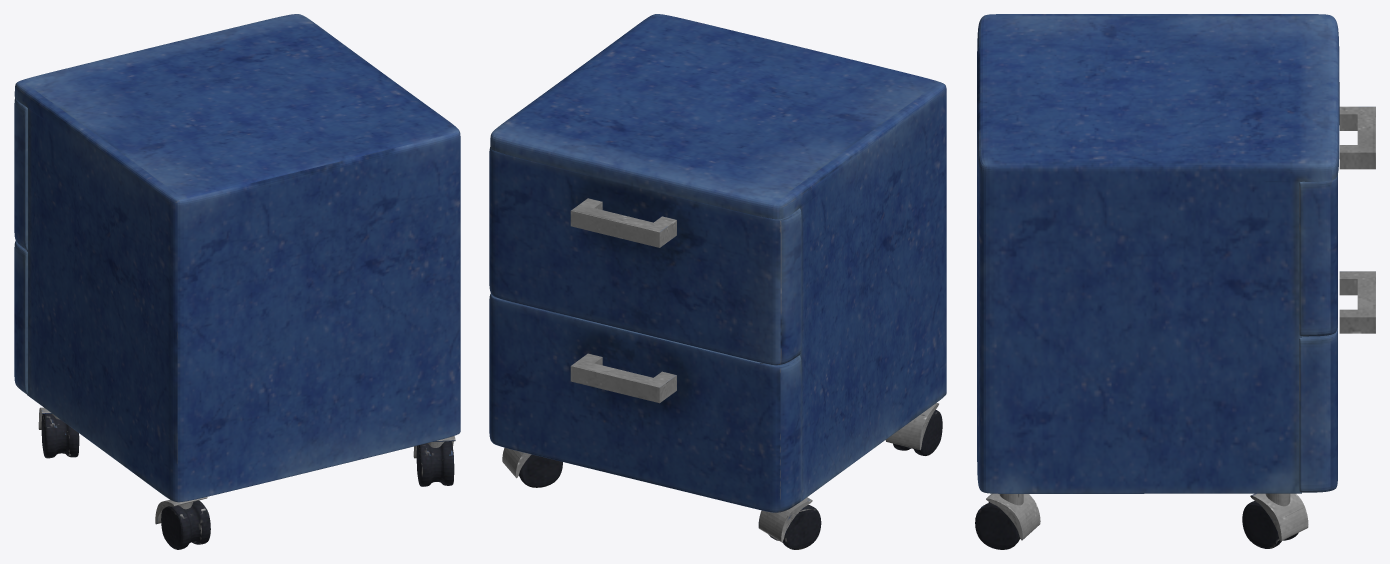
Rendered from tumb.fbx.
3 views of the same model, side by side, from view 1: azimuth 30°, elevation 25°; view 2: azimuth 150°, elevation 25°; view 3: azimuth 270°, elevation 25° (orthographic). The views are drawn at different scales.
Visible parts, largest first — view 1: Cube; view 2: Cube; view 3: Cube.
Boxes of the visible parts, x1,y1,x2,y2 form: Cube: (14, 14, 460, 549); Cube: (489, 14, 946, 549); Cube: (975, 14, 1375, 549).
Size of the model in its own units: 2081 by 2361 by 2209.
Materials: 1 (1 with a texture image).
